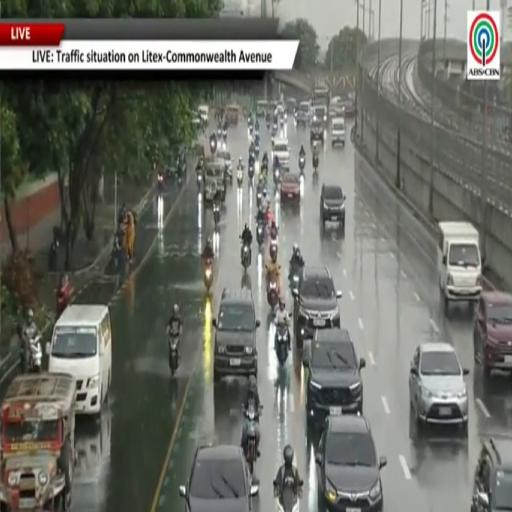car: (316, 415, 387, 511), (303, 328, 365, 424), (409, 343, 468, 431), (180, 445, 258, 511), (213, 288, 260, 381), (292, 266, 342, 347), (474, 292, 511, 377), (471, 437, 511, 511), (320, 184, 345, 230), (280, 172, 300, 202), (272, 138, 290, 168), (331, 117, 345, 148), (217, 150, 233, 173), (296, 102, 310, 127), (310, 120, 324, 143), (312, 104, 327, 124), (343, 100, 356, 118), (198, 105, 209, 125), (256, 100, 267, 117), (286, 98, 296, 115)
jeepney: (0, 373, 76, 511), (204, 158, 226, 202), (225, 104, 240, 125)
motorcycle: (243, 402, 262, 474), (274, 477, 303, 511), (110, 232, 126, 270), (275, 326, 289, 365), (168, 332, 180, 375), (29, 334, 42, 373), (267, 276, 278, 309), (204, 259, 213, 292), (289, 264, 300, 289), (241, 245, 251, 271), (257, 184, 267, 209), (256, 222, 264, 249), (213, 203, 220, 229), (270, 239, 277, 262), (248, 162, 254, 184), (225, 166, 232, 184), (158, 174, 164, 193), (312, 155, 318, 172), (271, 123, 278, 137), (299, 156, 305, 172), (237, 168, 242, 187), (197, 172, 202, 191), (274, 168, 279, 186), (262, 162, 267, 178), (255, 144, 260, 157), (222, 130, 227, 142), (271, 136, 275, 149), (217, 127, 221, 140), (266, 121, 270, 131), (255, 128, 259, 138), (249, 125, 253, 135), (280, 118, 284, 127), (284, 112, 287, 122)
